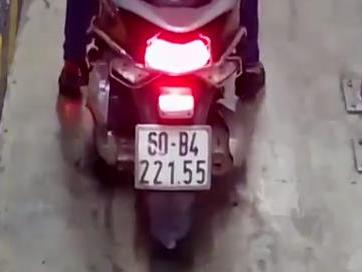num_plate: (134, 123, 213, 192)
